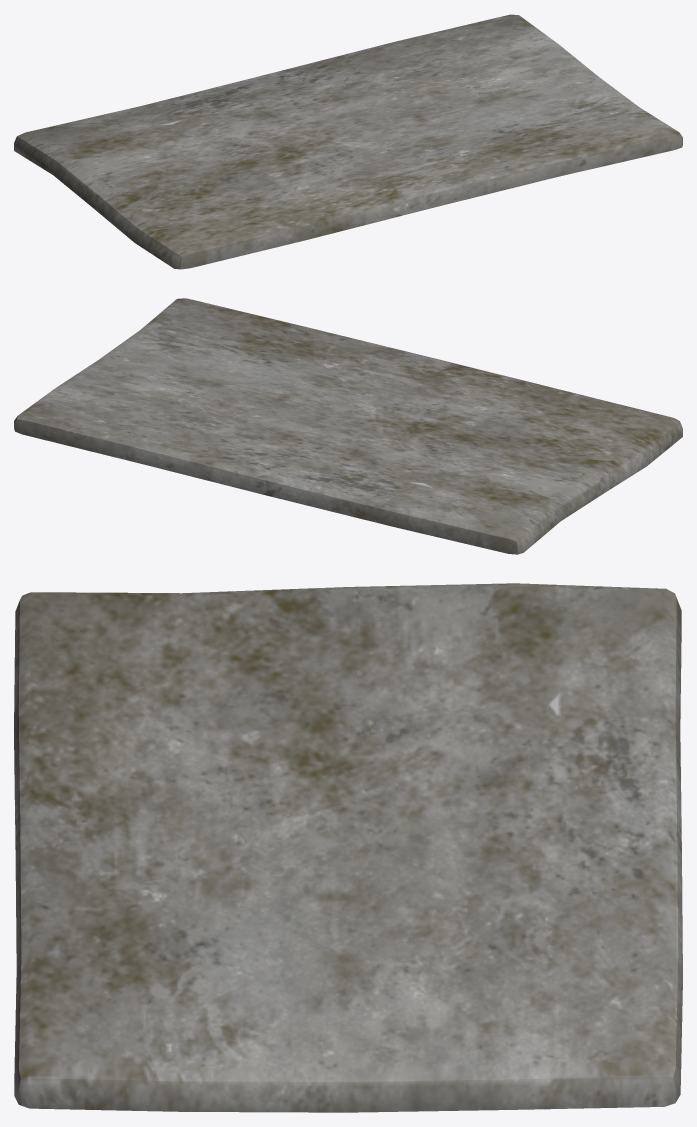
3 renders of one model, top to bottom at view 1: azimuth 30°, elevation 25°; view 2: azimuth 150°, elevation 25°; view 3: azimuth 270°, elevation 25°, orthographic. The views are drawn at different scales.
Visible parts, largest first — view 1: Plane057_Material_0_0; view 2: Plane057_Material_0_0; view 3: Plane057_Material_0_0.
Part boxes in pixels (x1,y1,x2,y2): Plane057_Material_0_0: (14, 14, 682, 269); Plane057_Material_0_0: (14, 298, 682, 554); Plane057_Material_0_0: (14, 583, 682, 1112).
Bounding box in the file's own units: 0.358 × 0.0152 × 0.2042.
1 material, 1 textured.
